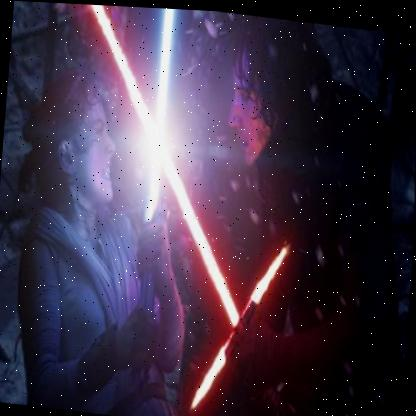lightsaber: (110, 6, 188, 390)
person: (176, 9, 416, 416), (0, 70, 194, 416)
sith_lightsaber: (39, 2, 320, 416)
